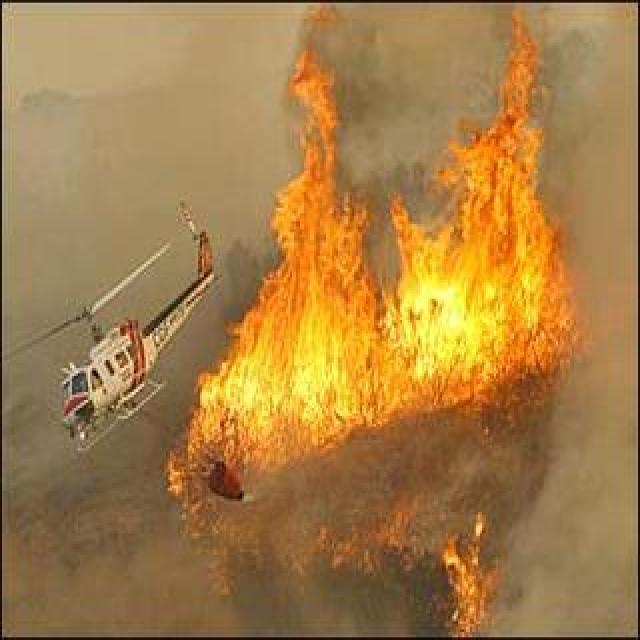Fire: (171, 0, 635, 529), (338, 496, 504, 640)
Smoke: (486, 0, 640, 629)
